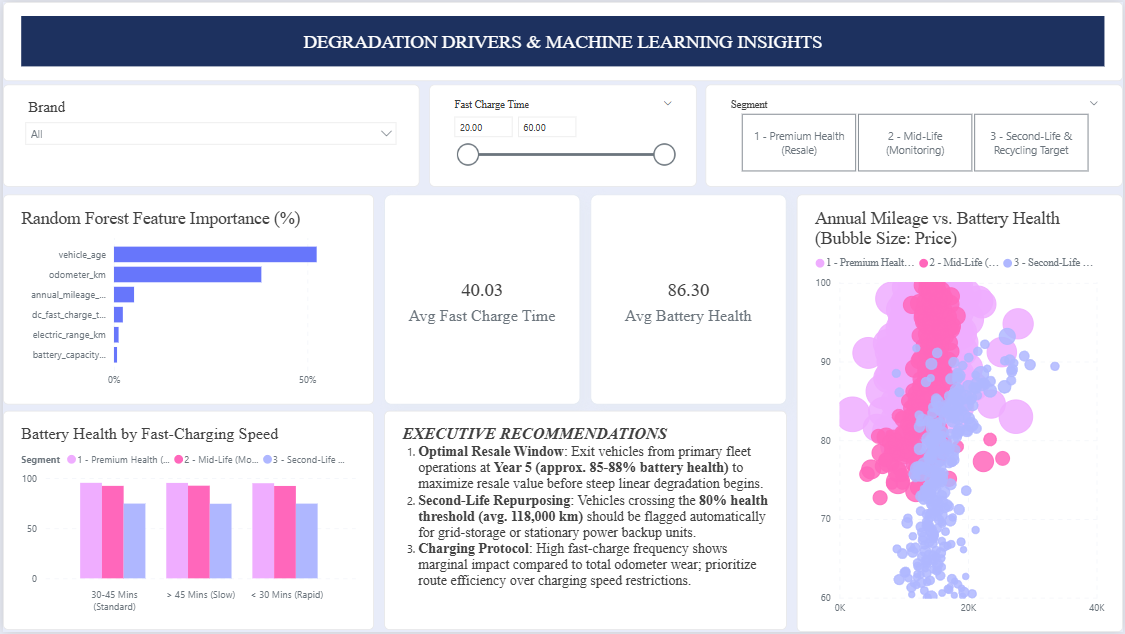

Layout of this report page (visuals, bound fields, positions):
{"tool":"powerbi","page":{"name":"Degradation Drivers & Machine Learning Insights","canvas":[1280,720],"ordinal":2},"visuals":[{"type":"slicer","fields":{"Values":["ev_cars_with_clusters.make"]},"box":[0,94.3,475.7,117.1],"z":0},{"type":"slicer","fields":{"Values":["ev_cars_with_clusters.dc_fast_charge_time_minutes"]},"box":[487.1,94.3,305.7,117.1],"z":1000},{"type":"slicer","fields":{"Values":["ev_cars_with_clusters.Segment"]},"box":[802.9,94.3,477.1,117.1],"z":2000},{"type":"card","fields":{"Values":["ev_cars_with_clusters.Avg Fast Charge Time"]},"box":[435.7,220,224.3,240],"z":3000},{"type":"card","fields":{"Values":["ev_cars_with_clusters.Avg Battery Health"]},"box":[671.4,220,224.3,240],"z":4000},{"type":"clusteredBarChart","title":"Random Forest Feature Importance (%)","fields":{"Category":["_ML_Feature_Importance.Feature"],"Y":["Sum(_ML_Feature_Importance.Importance)"]},"box":[0,220,424.3,240],"z":5000},{"type":"clusteredColumnChart","title":"Battery Health by Fast-Charging Speed","fields":{"Category":["ev_cars_with_clusters.Charging Tier"],"Y":["ev_cars_with_clusters.Avg Battery Health"],"Series":["ev_cars_with_clusters.Segment"]},"box":[0,467.1,424.3,250],"z":6000},{"type":"textbox","box":[435.7,467.1,460,250],"z":7000},{"type":"scatterChart","title":"Annual Mileage vs. Battery Health (Bubble Size: Price)","fields":{"X":["Avg(ev_cars_with_clusters.annual_mileage_km)"],"Y":["ev_cars_with_clusters.battery_health_percent"],"Size":["Avg(ev_cars_with_clusters.listing_price)"],"Series":["ev_cars_with_clusters.Segment"]},"box":[907.1,220,372.9,500],"z":7001},{"type":"shape","box":[0,0,1280,90],"z":7002}]}

Visuals, with their boxes in screenshot pixels (x1, y1, x2, y2), scaled from the page's 1280x720 canvas onto the 1125x634 screenshot:
slicer - ev_cars_with_clusters.make: <bbox>0, 83, 418, 186</bbox>
slicer - ev_cars_with_clusters.dc_fast_charge_time_minutes: <bbox>428, 83, 697, 186</bbox>
slicer - ev_cars_with_clusters.Segment: <bbox>706, 83, 1124, 186</bbox>
card - ev_cars_with_clusters.Avg Fast Charge Time: <bbox>383, 194, 580, 405</bbox>
card - ev_cars_with_clusters.Avg Battery Health: <bbox>590, 194, 787, 405</bbox>
"Random Forest Feature Importance (%)" clusteredBarChart: <bbox>0, 194, 373, 405</bbox>
"Battery Health by Fast-Charging Speed" clusteredColumnChart: <bbox>0, 411, 373, 631</bbox>
textbox: <bbox>383, 411, 787, 631</bbox>
"Annual Mileage vs. Battery Health (Bubble Size: Price)" scatterChart: <bbox>797, 194, 1124, 633</bbox>
shape: <bbox>0, 0, 1124, 79</bbox>
